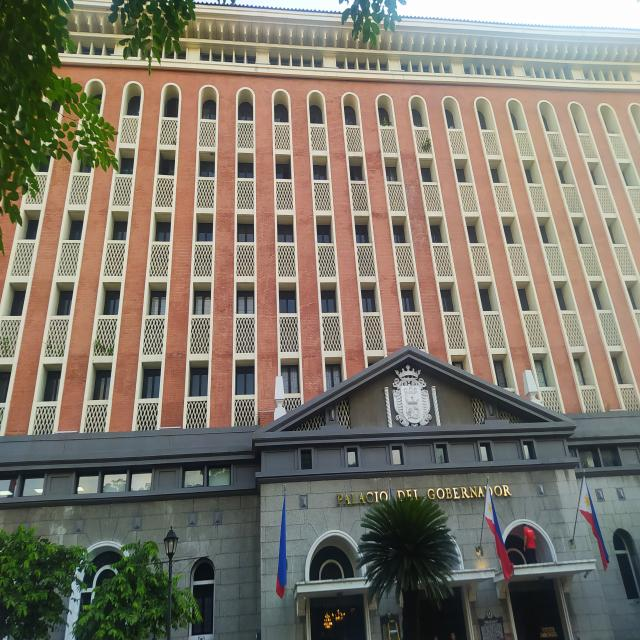Palacio de Gobernador: (0, 5, 640, 640)
